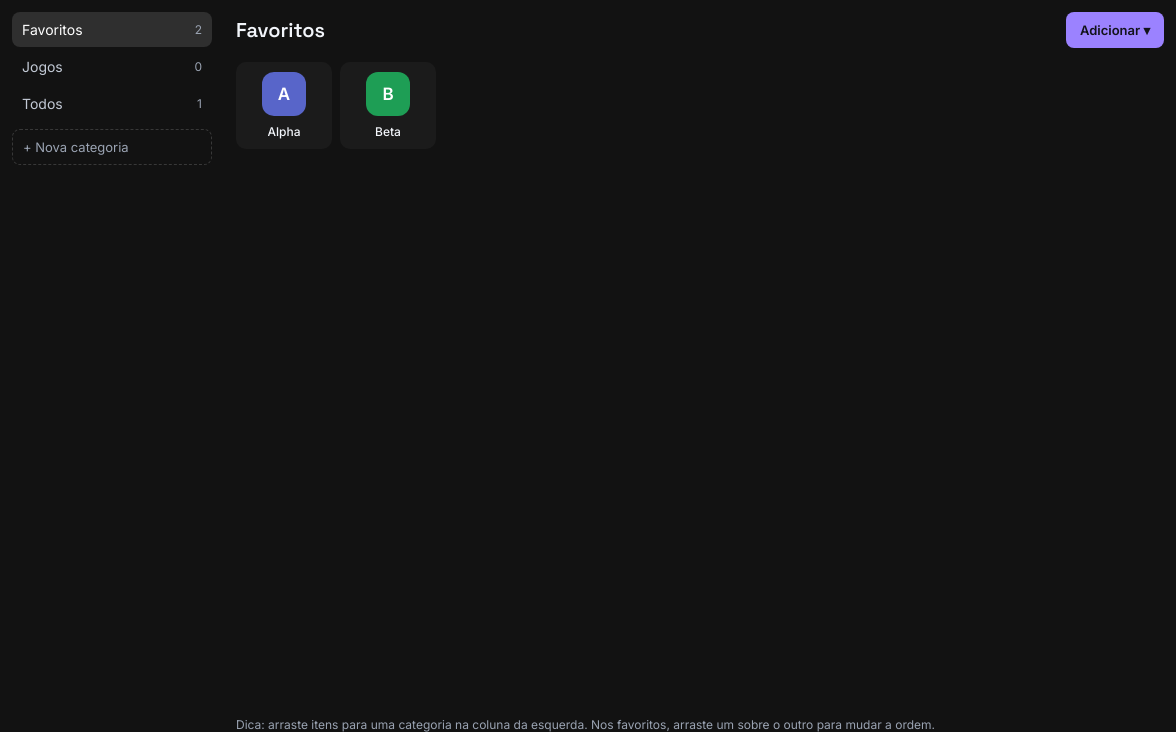
Test: ItemsSection › mostra erro de categoria
Step 1. Click the button "+ Nova categoria" → (112, 147), box [12,129,212,165]
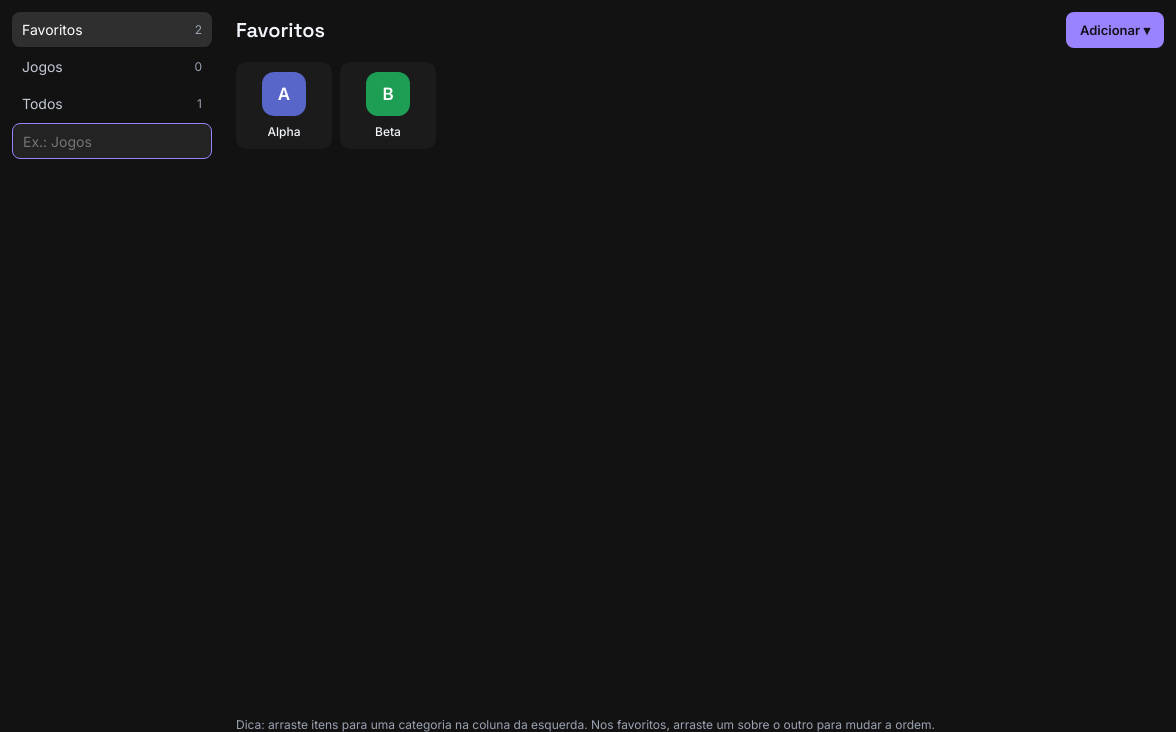
Step 2. Type "Jogos" into the field named "Nome da categoria" → (112, 141), box [12,123,212,159]
Then press Enter
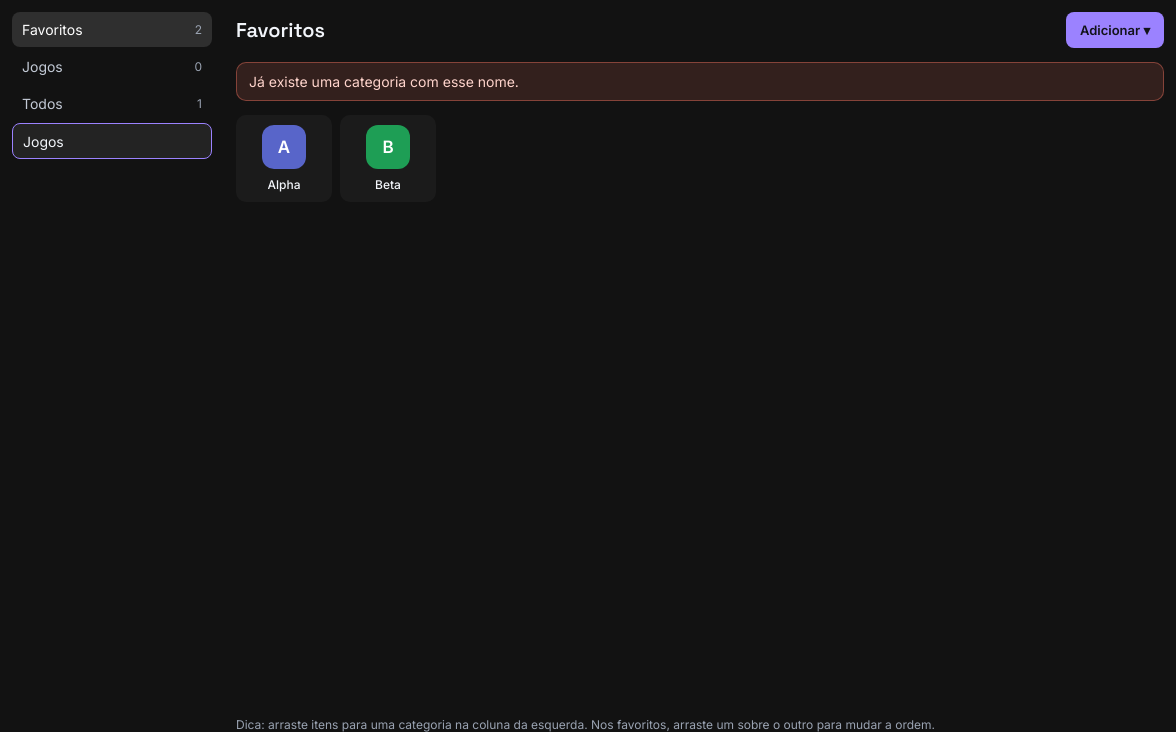
expect the message reads "Já existe uma categoria com esse nome.": met, box [249,73,519,90]
